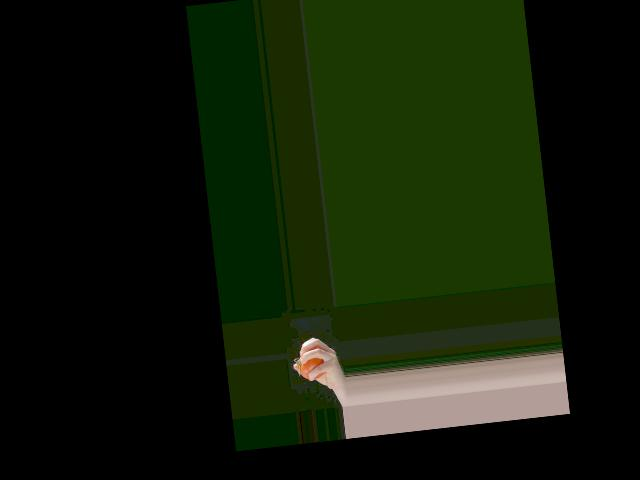tomato: (299, 353, 326, 381)
